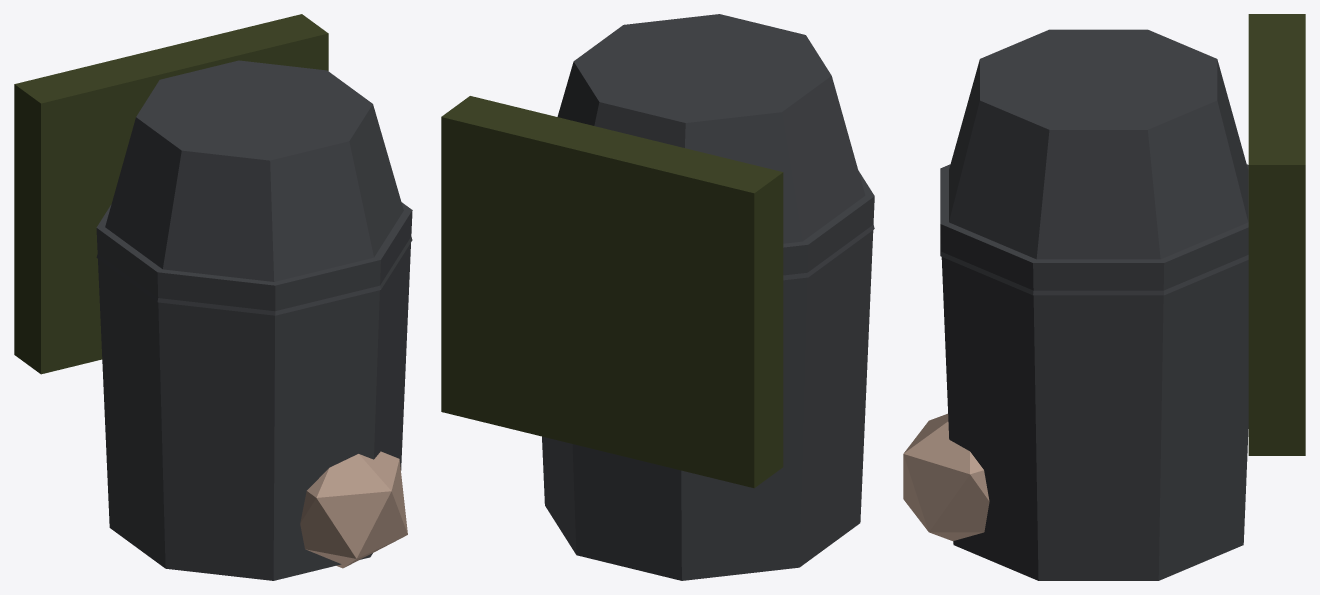
The model's file is inf_walker_upper_leg.fbx.
3 views of the same model, side by side, from view 1: azimuth 30°, elevation 25°; view 2: azimuth 150°, elevation 25°; view 3: azimuth 270°, elevation 25° (orthographic). The views are drawn at different scales.
Parts seen in each view (by area): view 1: inf_walker_upper_leg; view 2: inf_walker_upper_leg; view 3: inf_walker_upper_leg.
Boxes of the visible parts, left/top/right/bottom form: inf_walker_upper_leg: left=14, top=14, right=412, bottom=580; inf_walker_upper_leg: left=441, top=14, right=874, bottom=580; inf_walker_upper_leg: left=903, top=14, right=1305, bottom=580.
Bounding box in the file's own units: 100 × 140 × 113.
